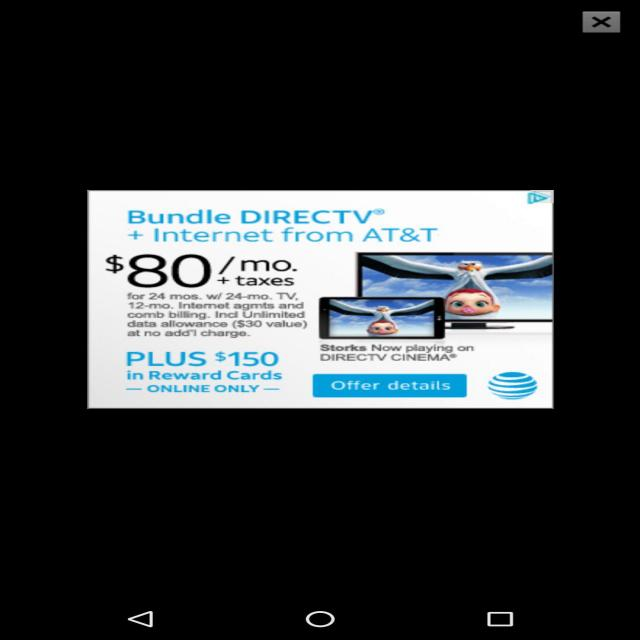button: (60, 178, 588, 417), (305, 366, 473, 401)
icon: (570, 9, 628, 39)
image: (318, 250, 542, 343), (480, 365, 546, 401)
text: (100, 250, 294, 399), (120, 204, 438, 246), (314, 342, 464, 364), (328, 374, 454, 398)
